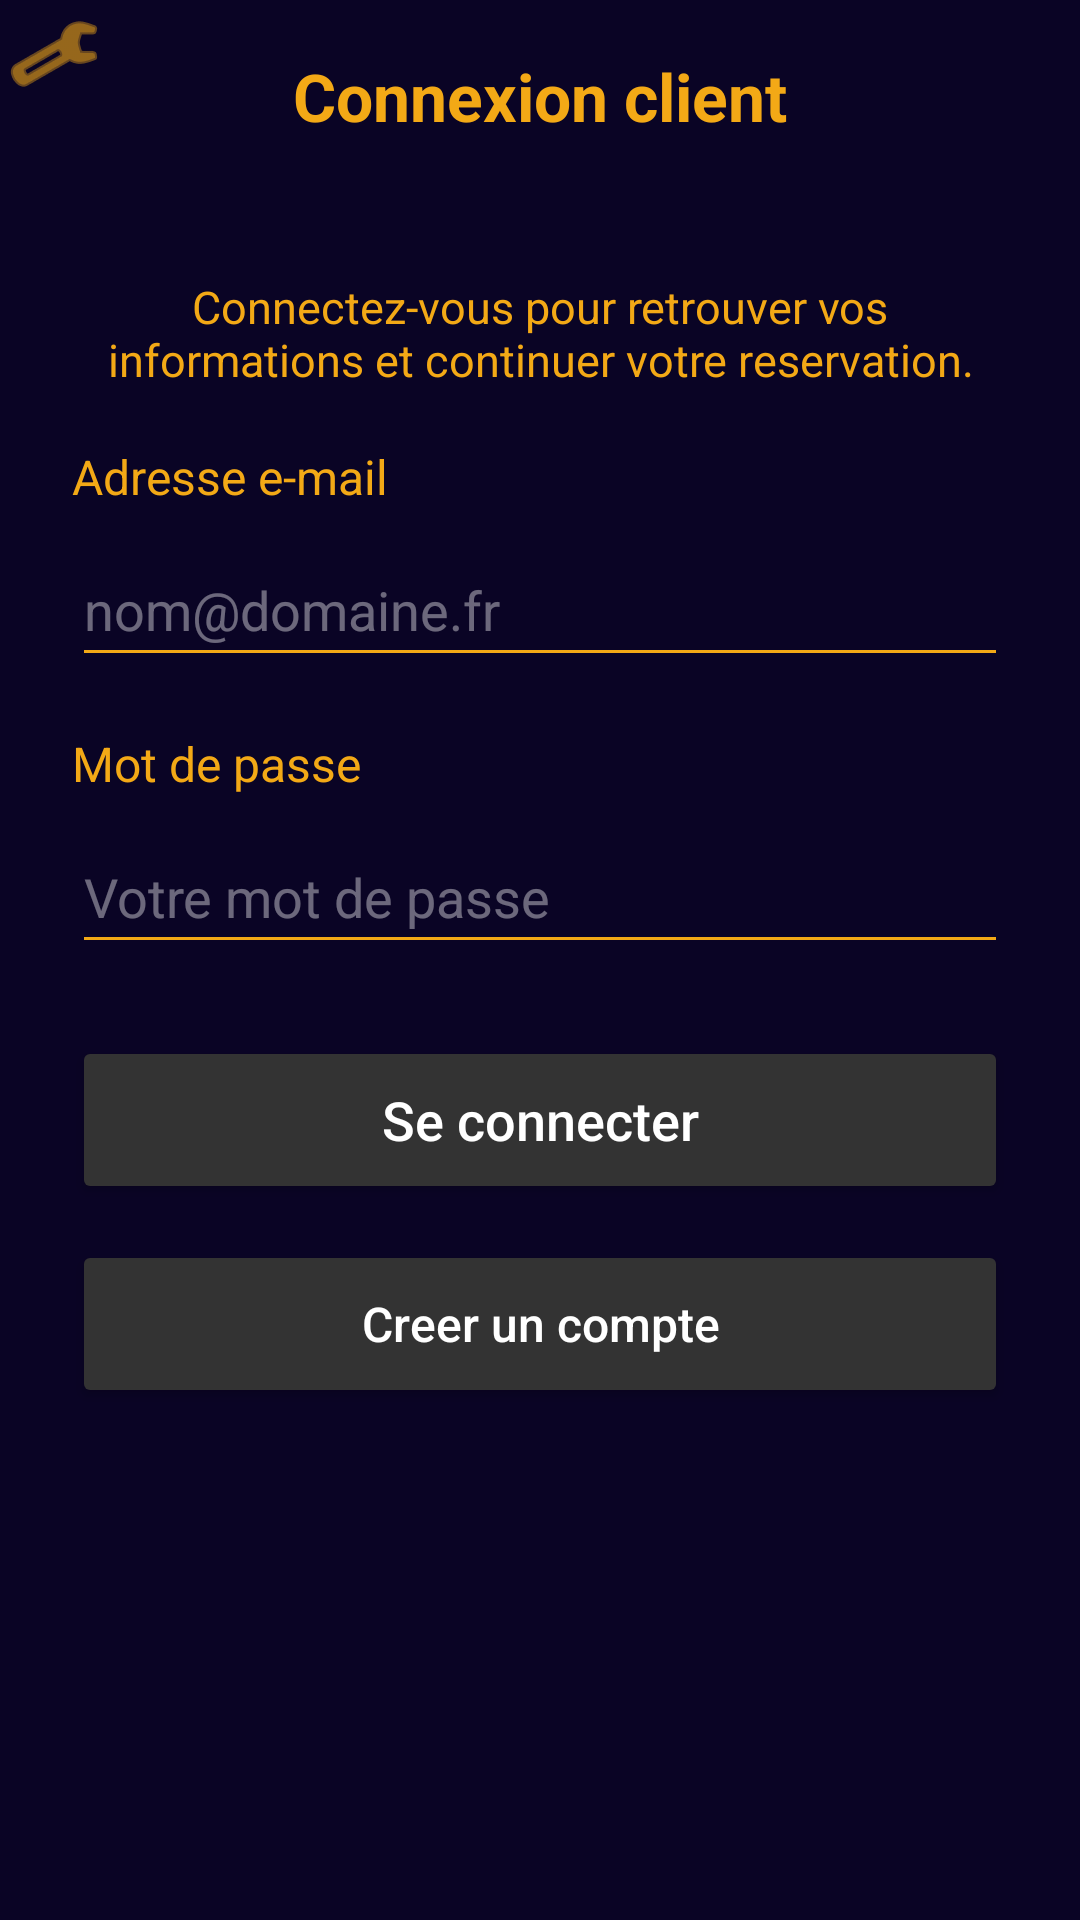

Named icons in this screenshot (1080px×1920px) and their bounding boxes, (x1, y1, x2, y2):
Acces mode restaurateur: (11, 21, 97, 87)
